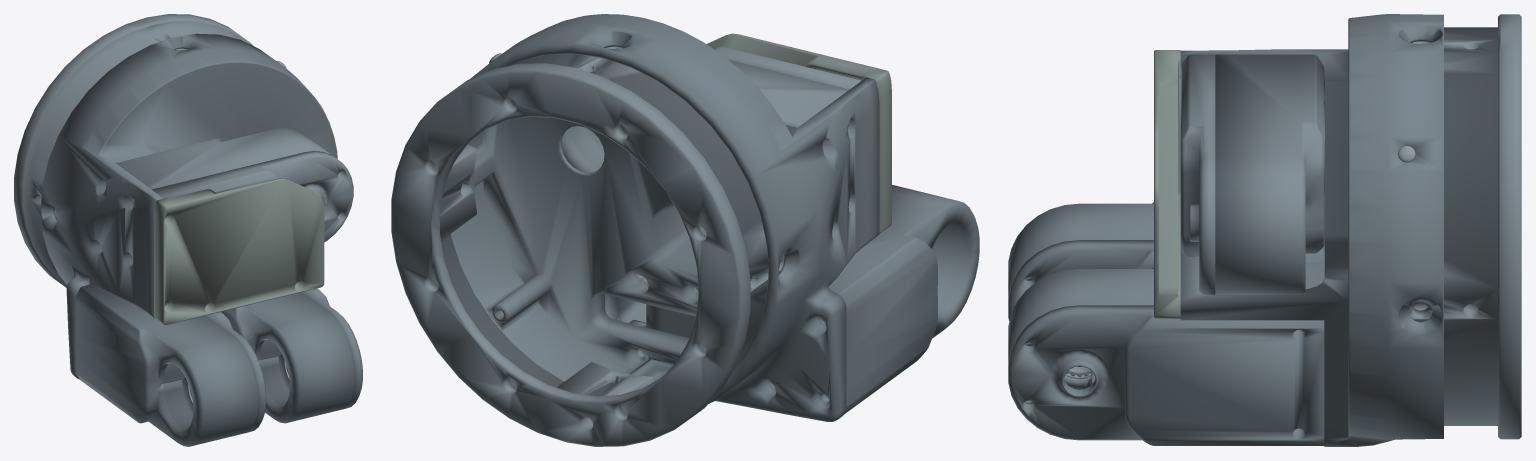
3 renders of one model, left to right at view 1: azimuth 30°, elevation 25°; view 2: azimuth 150°, elevation 25°; view 3: azimuth 270°, elevation 25°, orthographic. The views are drawn at different scales.
Visible parts, largest first — view 1: shell_0, cover_0, palm_plate_0; view 2: shell_0, cover_0, palm_plate_0; view 3: shell_0, cover_0, palm_plate_0.
Part boxes in pixels (bbox=[...]): shell_0: bbox=[40, 33, 362, 446]; cover_0: bbox=[14, 14, 353, 287]; palm_plate_0: bbox=[154, 178, 324, 324]; shell_0: bbox=[451, 14, 979, 421]; cover_0: bbox=[391, 46, 861, 446]; palm_plate_0: bbox=[706, 33, 891, 233]; shell_0: bbox=[1008, 14, 1443, 446]; cover_0: bbox=[1180, 14, 1521, 439]; palm_plate_0: bbox=[1154, 50, 1180, 318].
Size of the model in its own units: 0.0825 by 0.08 by 0.0965.
